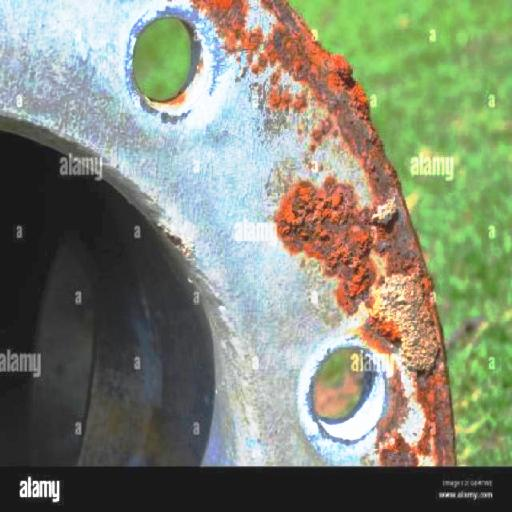corrosion: (192, 0, 397, 186), (281, 194, 446, 361), (386, 369, 468, 473)
